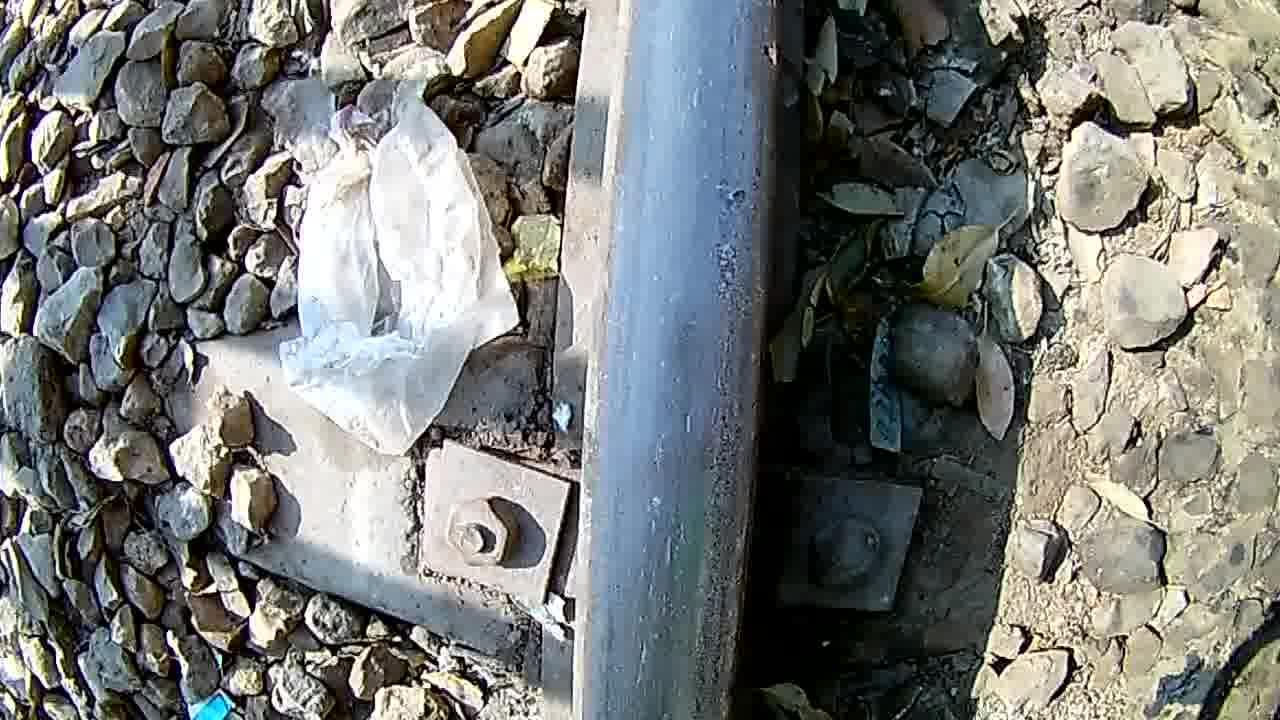crack: (569, 0, 786, 720)
